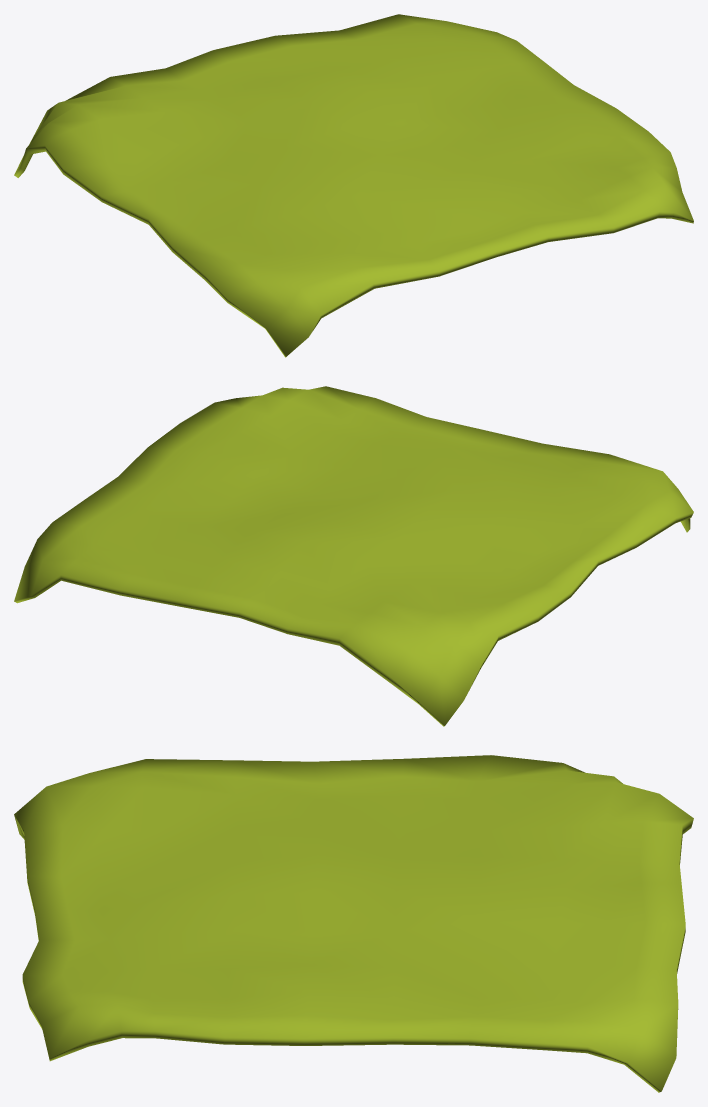
File: chease.fbx
3 renders of one model, top to bottom at view 1: azimuth 30°, elevation 25°; view 2: azimuth 150°, elevation 25°; view 3: azimuth 270°, elevation 25°, orthographic. The views are drawn at different scales.
Visible parts, largest first — view 1: Cube.003; view 2: Cube.003; view 3: Cube.003.
Boxes of the visible parts, x1,y1,x2,y2 form: Cube.003: (14,14,693,357); Cube.003: (14,386,693,726); Cube.003: (14,755,693,1092).
Size of the model in its own units: 73.68 by 11.88 by 74.68.
